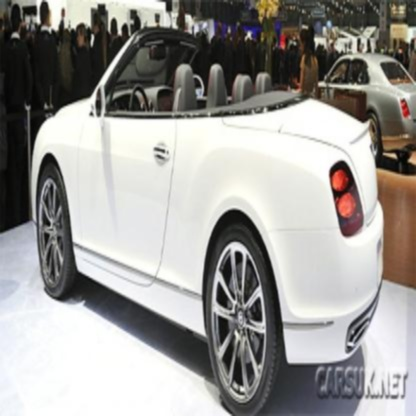Vehicle: (30, 23, 386, 414)
